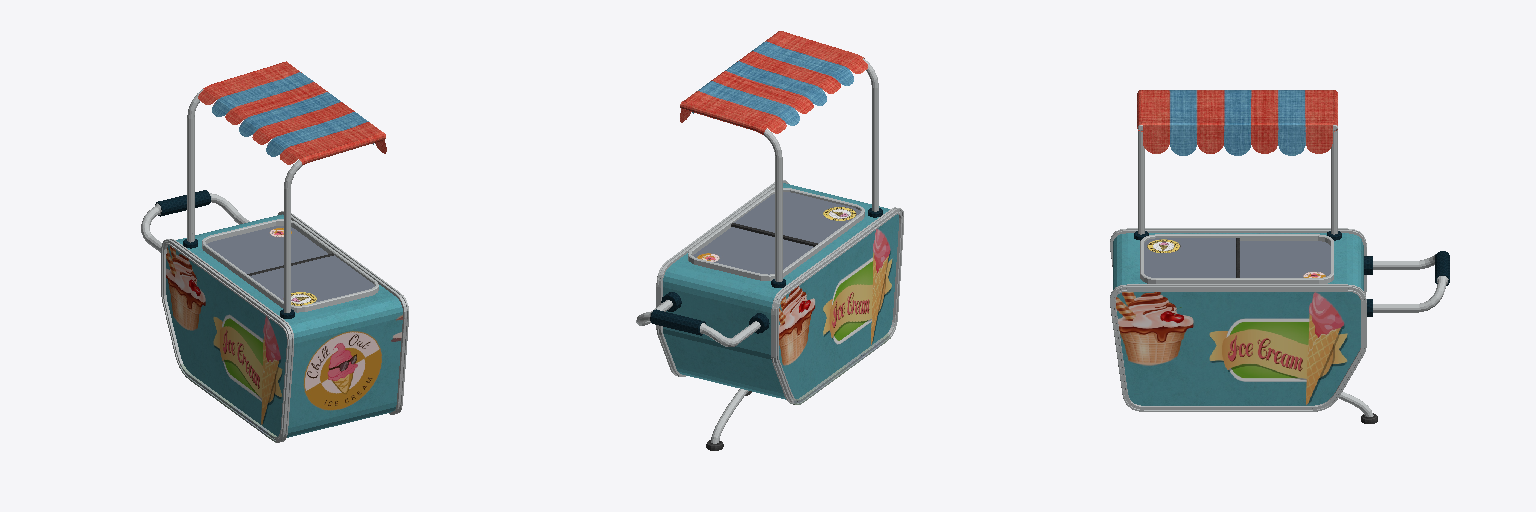
3 renders of one model, left to right at view 1: azimuth 30°, elevation 25°; view 2: azimuth 150°, elevation 25°; view 3: azimuth 270°, elevation 25°, orthographic.
Parts seen in each view (by area): view 1: RuedaDerecha; view 2: RuedaDerecha; view 3: RuedaDerecha.
Part boxes in pixels (bbox=[...]): RuedaDerecha: bbox=[141, 61, 408, 442]; RuedaDerecha: bbox=[636, 31, 903, 450]; RuedaDerecha: bbox=[1110, 90, 1449, 423].
Bounding box in the file's own units: 32.79 × 73.68 × 70.65.
Materials: 1 (1 with a texture image).